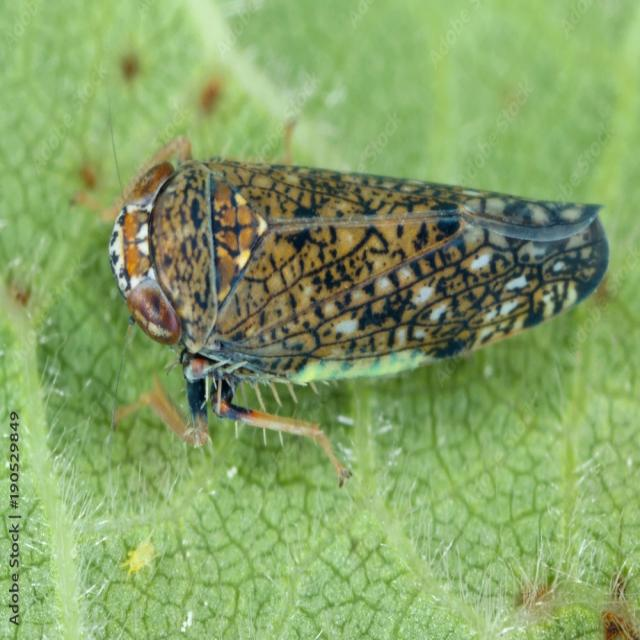Yechan: (92, 140, 615, 447)
